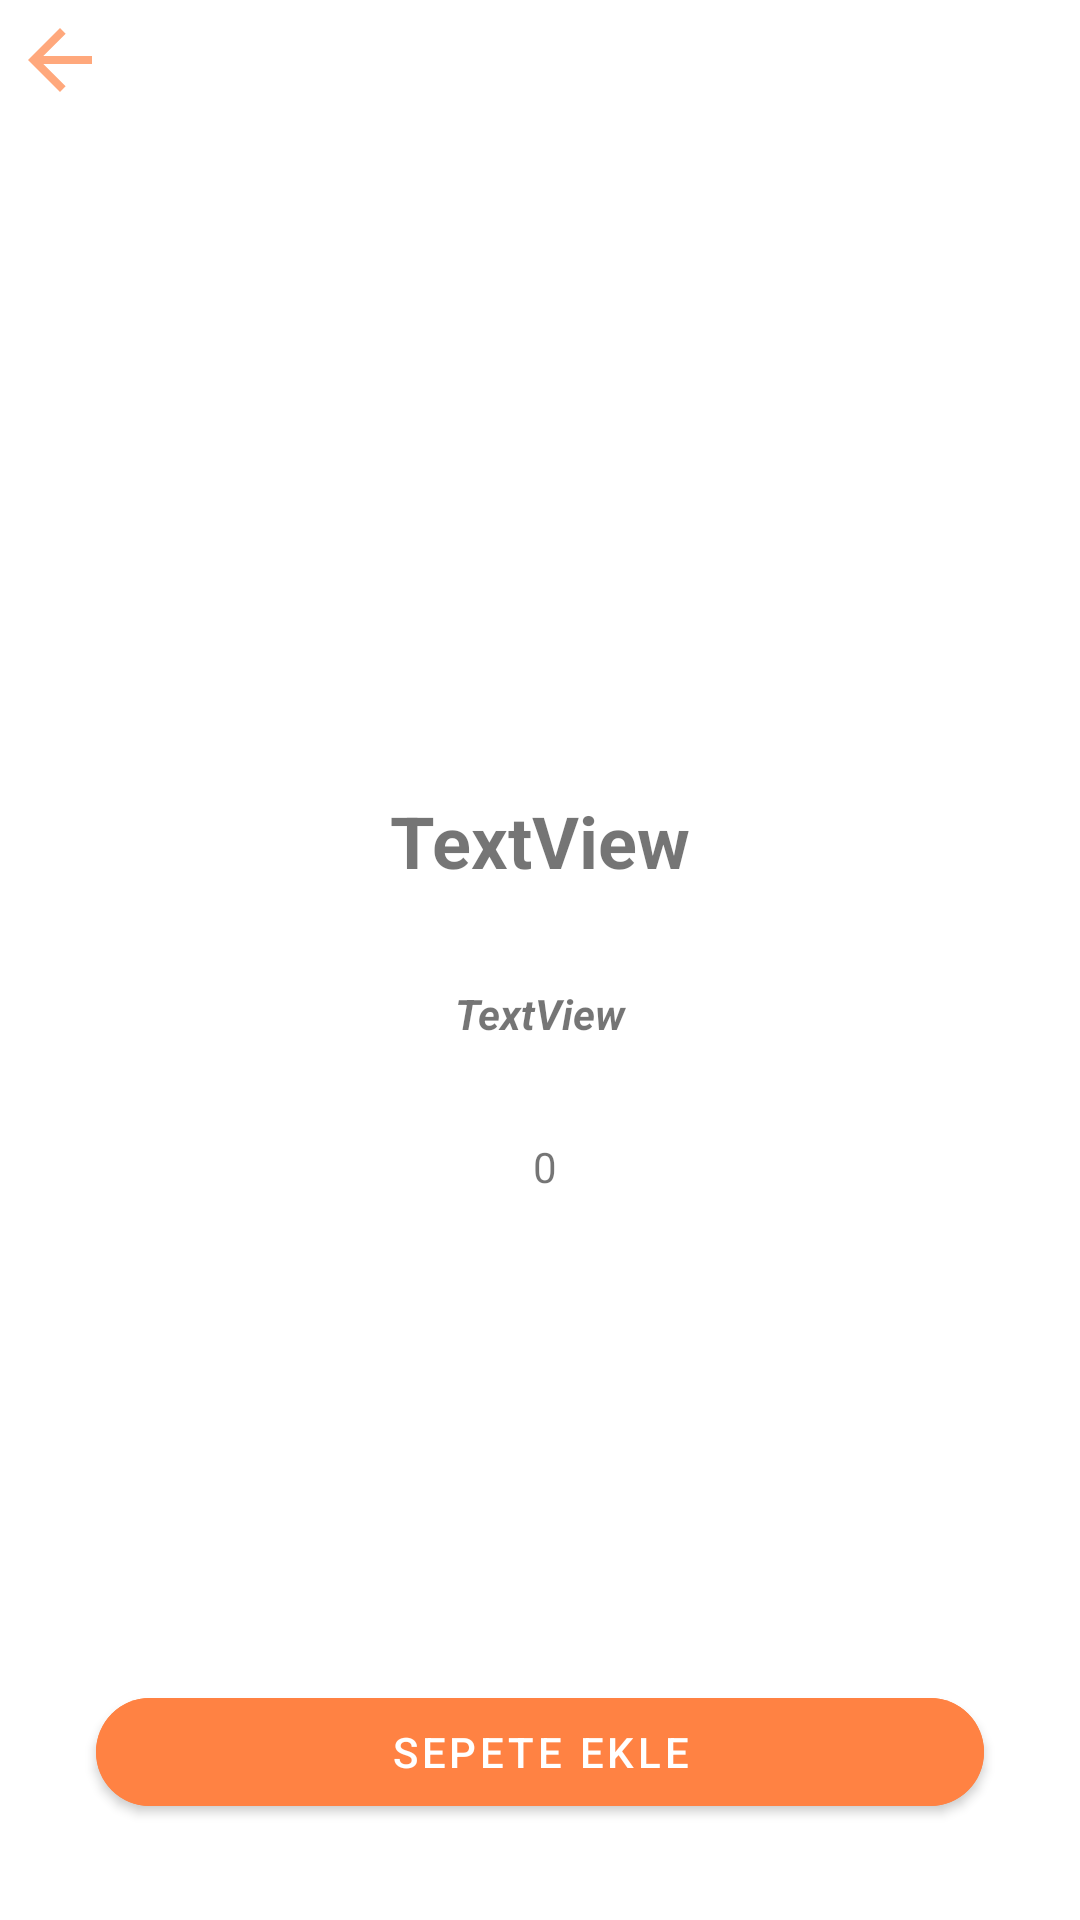

Locate icon controls on the screen. Image size 1080x1920, boxes as (x1, y1, x2, y2).
arrow back: (28, 28, 92, 92)
